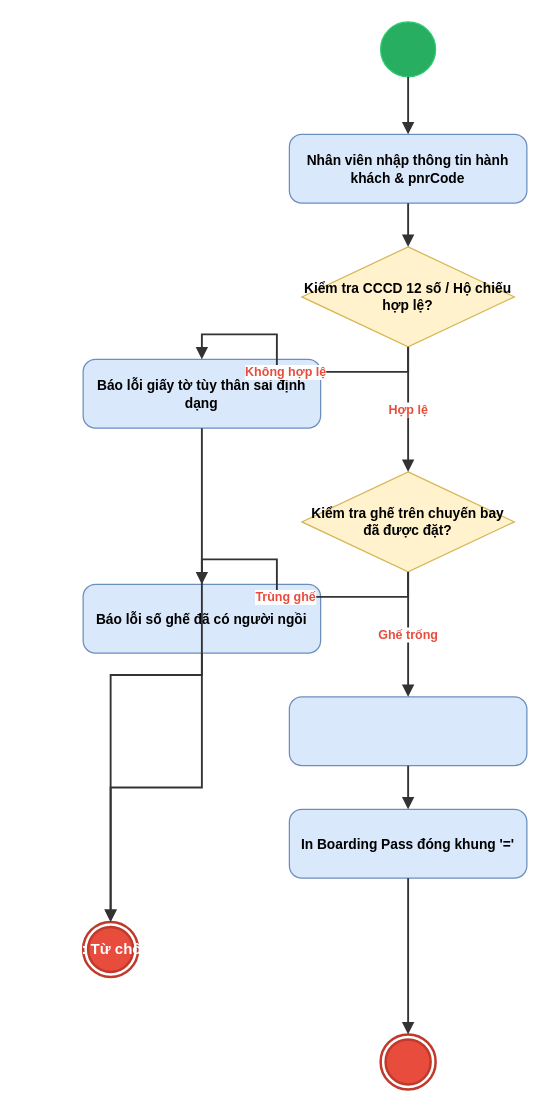
The diagram is 549 pixels wide and 1113 high, and some of its shapes have lost their labels. The shapes that lost their labels are listed below. From the top down, each one's centre as x and y in pixels, then its label:
At (x=407, y=49): "Bắt đầu".
At (x=407, y=731): "Cấp số ghế & Đánh dấu isCheckedIn = true".
At (x=407, y=1061): "Kết thúc: Check-in thành công".
